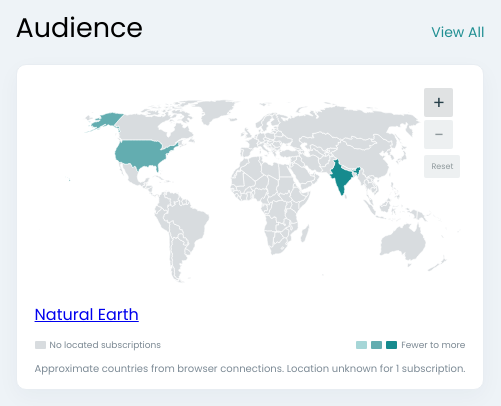
Test: map supports bounded zoom, keyboard pan and reset without browser page navigation
This screenshot has width=501, height=406.
Expected: the picture "India: 4 located subscriptions" is shown, [329,158,361,196]
Expected: the button named "Zoom out" is disabled, [424,120,453,149]
Click the button named "Zoom in" at coordinates (439, 102), box [424,88,453,117]
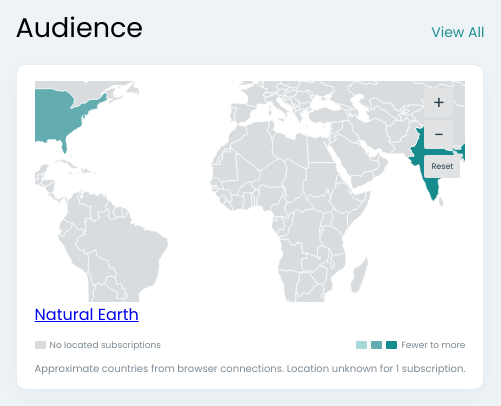
Expected: the icon named "World map of audience countries" has attribute viewBox="225 115 450 230"
Press ArrowRight in the icon named "World map of audience countries", box [35,81,466,302]
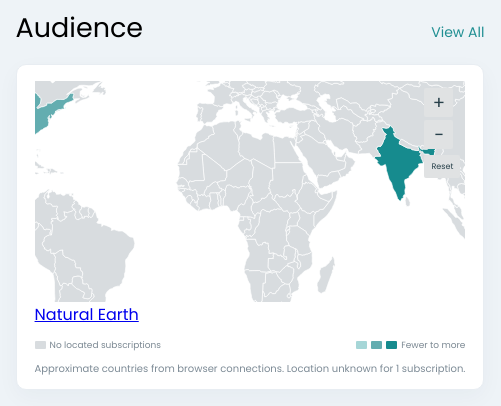
Expected: the icon named "World map of audience countries" has attribute viewBox="260 115 450 230", [35,81,466,302]
Click the button "Reset" at coordinates (442, 166), box [424,155,460,178]
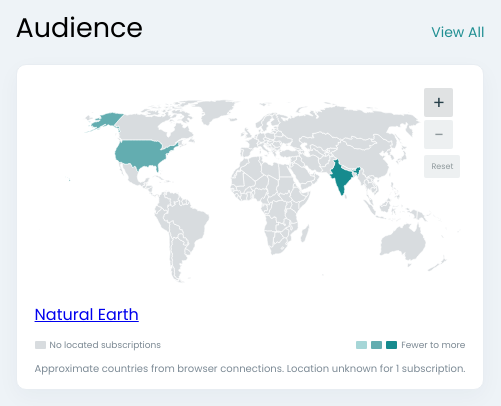
Expected: the icon named "World map of audience countries" has attribute viewBox="0 0 900 460", [35,81,466,302]
Click the button named "Zoom in" at coordinates (439, 102), box [424,88,453,117]
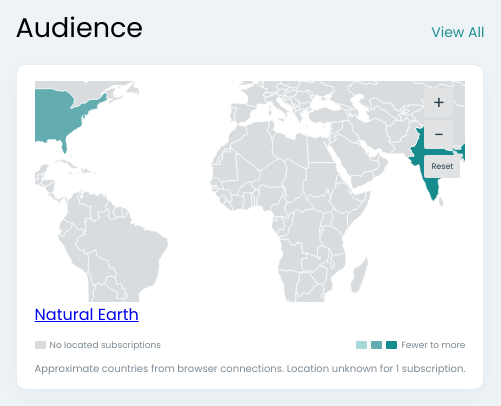
Click the button named "Zoom in" at coordinates (439, 102), box [424,88,453,117]
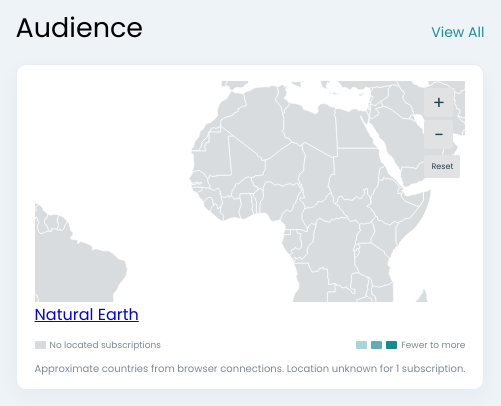
Click the button named "Zoom in" at coordinates (439, 102), box [424,88,453,117]
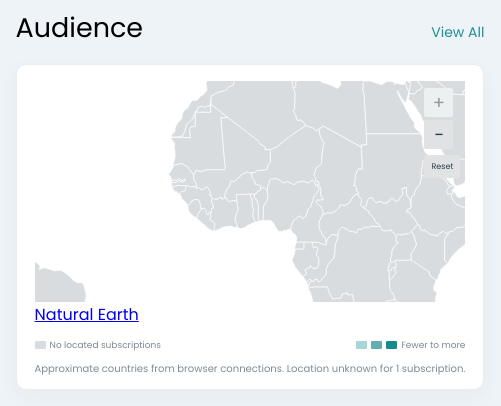
Expected: the button named "Zoom in" is disabled, [424,88,453,117]
